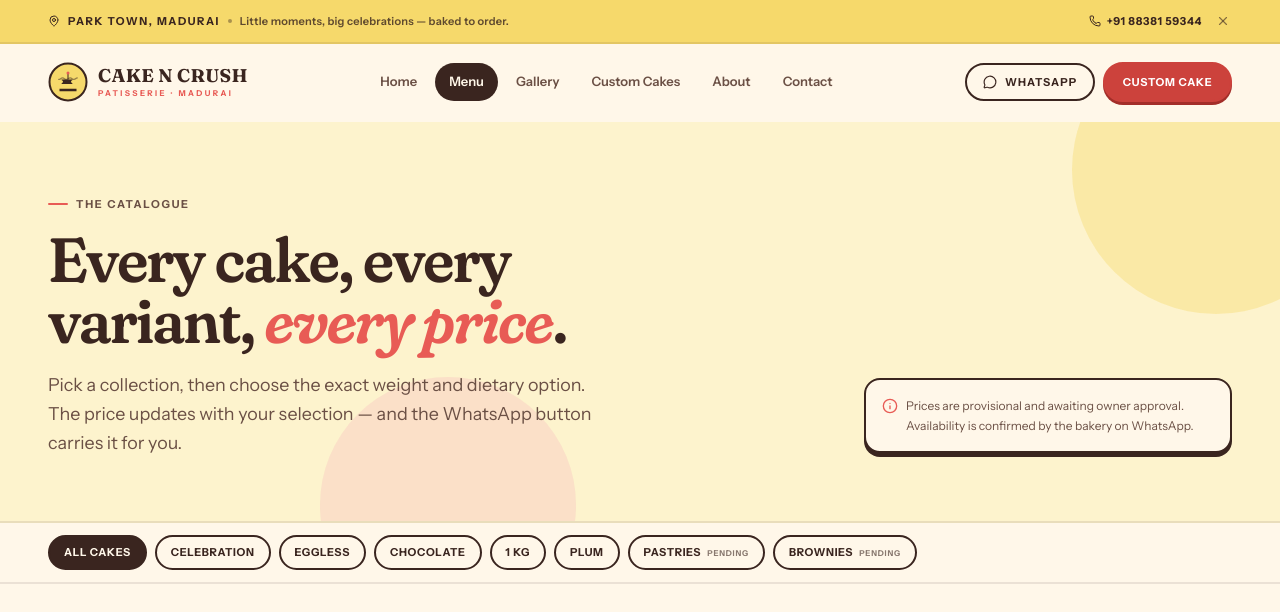
Test: menu page › shows the honest empty state for unconfirmed categories
This screenshot has width=1280, height=612.
What coordinates should you click on to do the following:
click the button "Pastries"
I would click on:
 (696, 552)
Its box is [628,535,765,570].
(page scrolled)
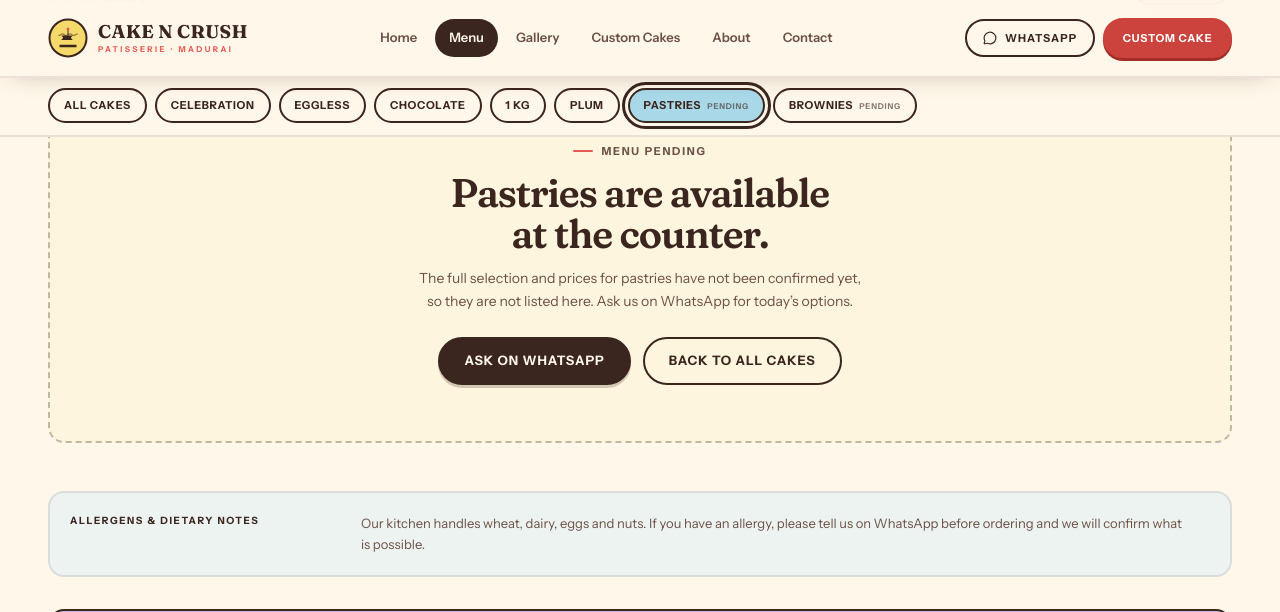
Result: the heading "Pastries are available at the counter." is shown at [451,168,829,258]
Result: the link "Ask on WhatsApp" is shown at [438,336,631,384]
